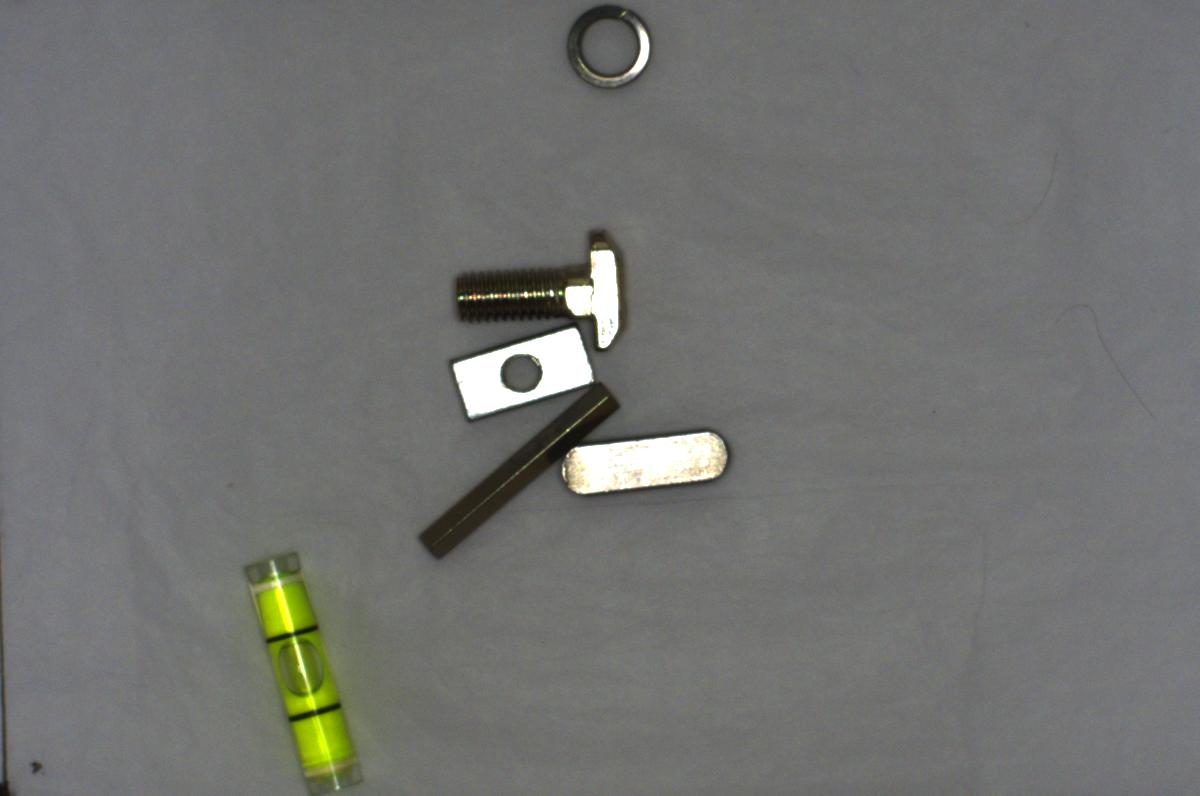Double hexagonal column: (395, 379, 622, 568)
Horizontal bubble: (242, 545, 365, 790)
Keybar: (551, 423, 731, 499)
Rectangular nut: (430, 320, 599, 420)
Spring washer: (555, 1, 659, 94)
T-shaped screw: (440, 220, 627, 356)
